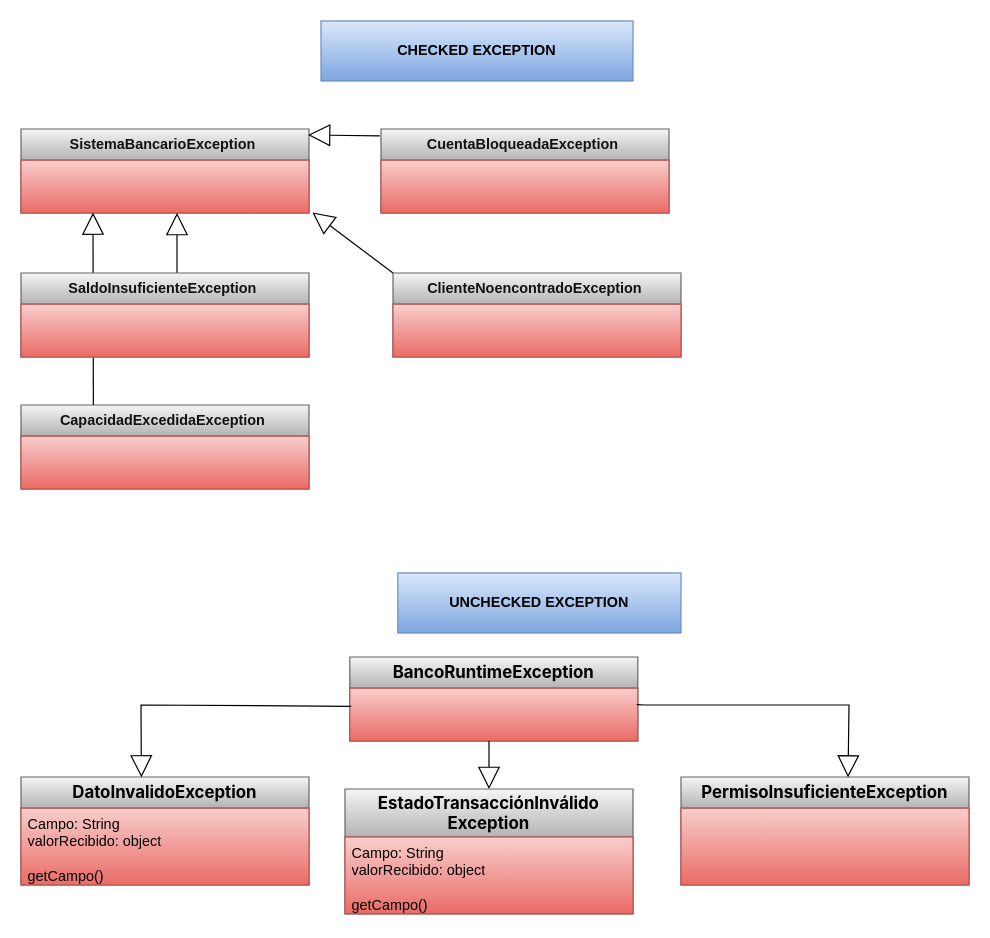
The diagram is 990 pixels wide and 938 high, and some of its shapes have lost their labels. Here are the shapes that lost their labels. From the top down, the centre of each, then its label:
At point 164,186: "codigoError : String timeStamp : LocalDateTime".
At point 524,186: "numeroCuenta : String".
At point 164,330: "saldo Actual: double montoSolicitado".
At point 536,330: "IdCliente: String".
At point 164,462: "capacidadMaxima: int".
At point 493,714: "Mensaje: String BancoRuntimeExcepcion".
At point 824,846: "accionDenegada: String getMensaje()".
